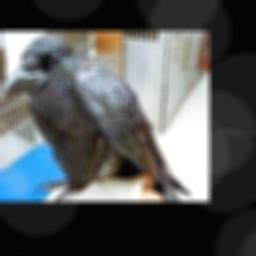Crow: (1, 33, 190, 200)
